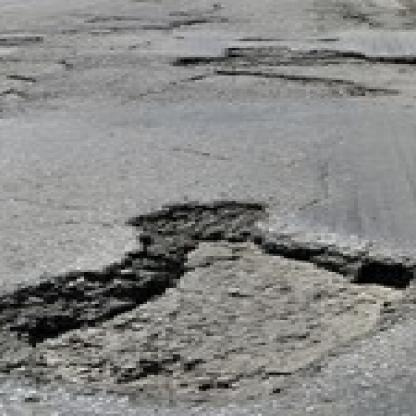pothole: (0, 201, 416, 412), (173, 46, 416, 71)
